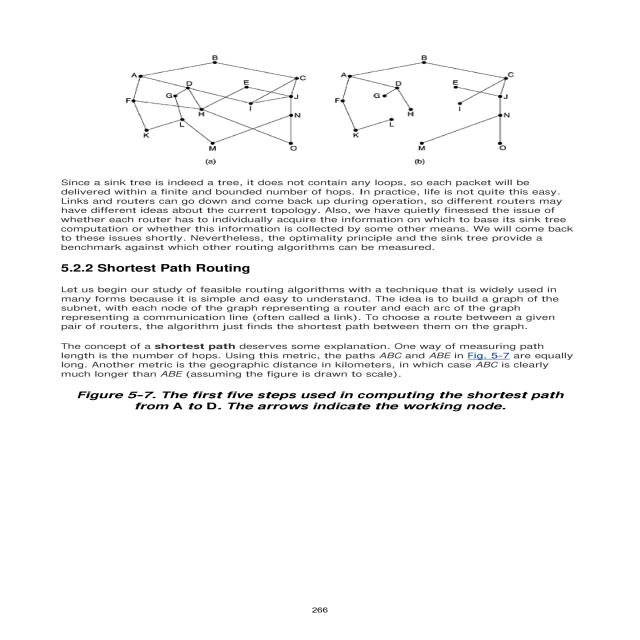diagram: (42, 44, 584, 252)
